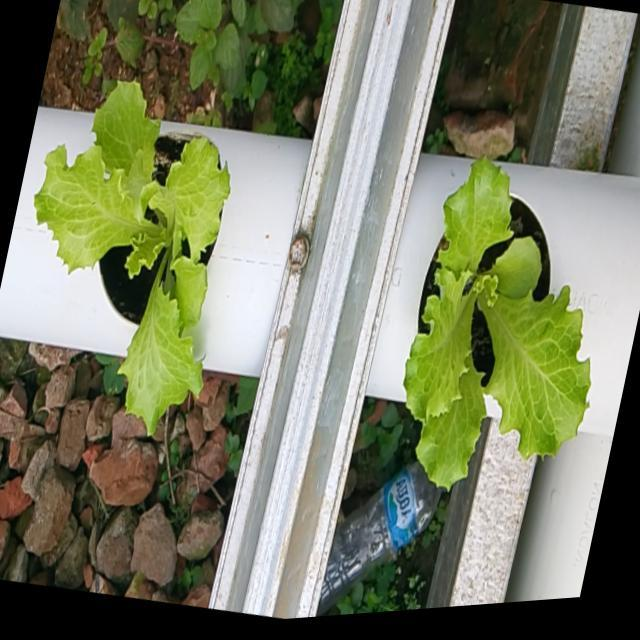Baby: (29, 70, 226, 426), (398, 146, 587, 482)
